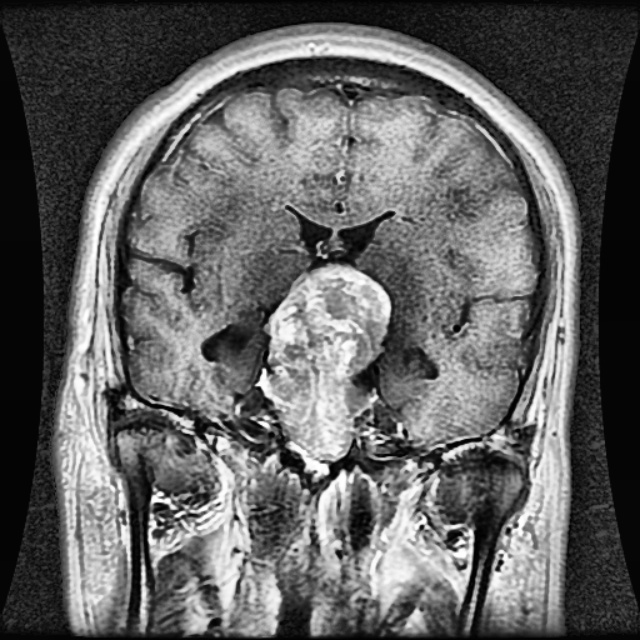Pituitary: (263, 267, 390, 458)
